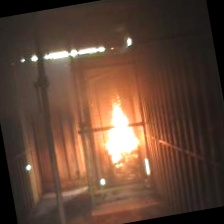fire: (92, 97, 144, 168)
